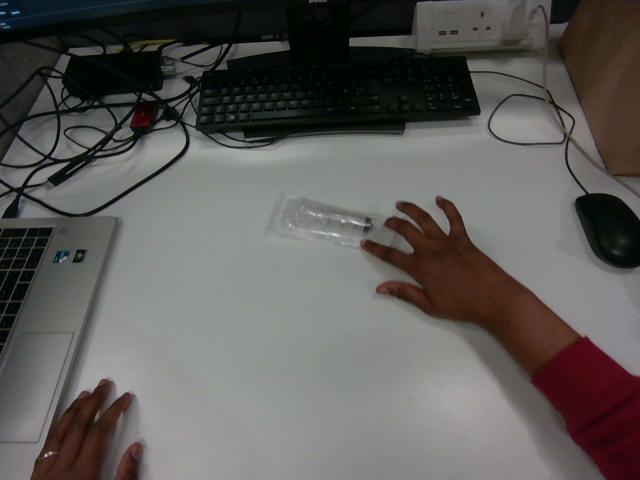syringe: (266, 194, 395, 245)
